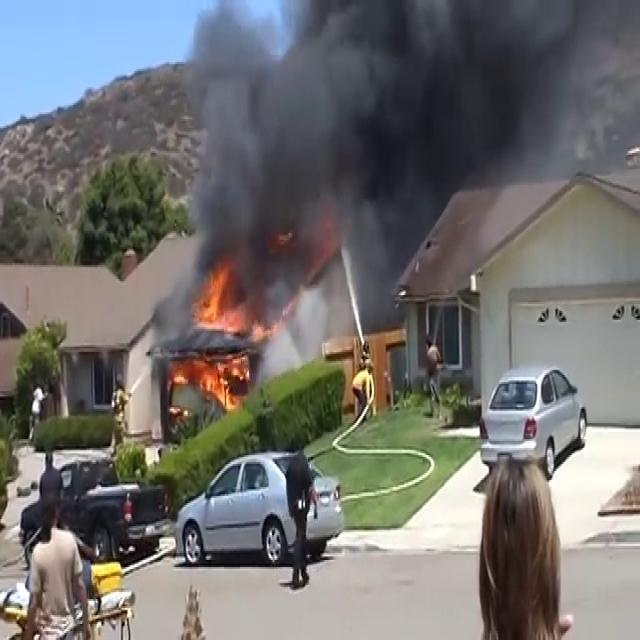Fire: (174, 258, 258, 416)
Smoke: (176, 0, 568, 283)
